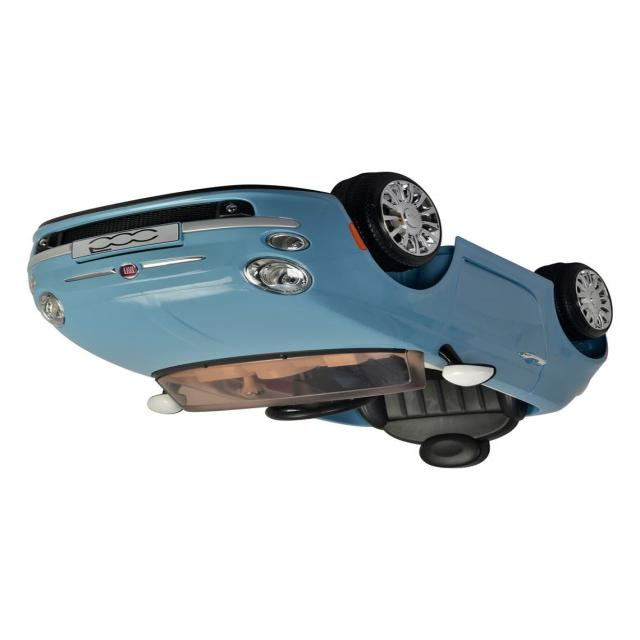Car: (26, 172, 613, 469)
